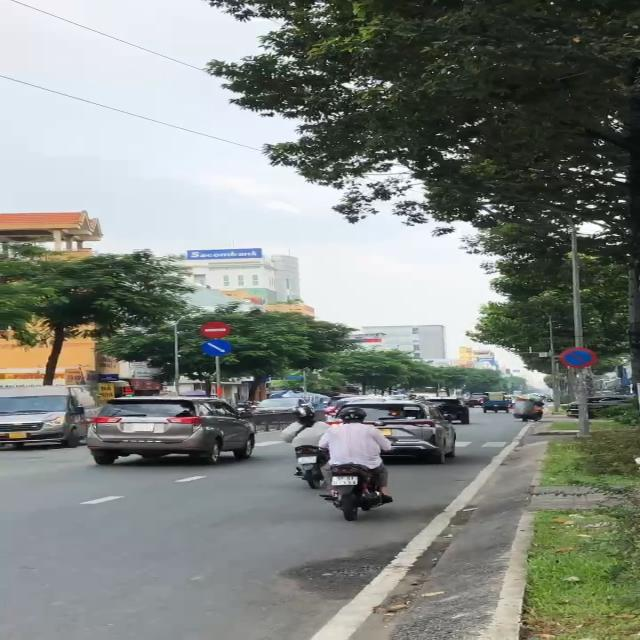Bien bao cam di nguoc chieu: (198, 320, 232, 340)
Bien bao huong phai di vong chuong ngai vat: (200, 339, 234, 358)
